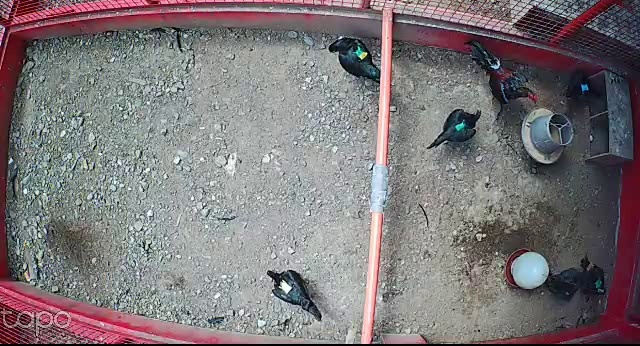Chicken: (264, 266, 326, 323), (323, 36, 381, 85), (425, 106, 484, 152), (561, 71, 600, 118), (575, 255, 612, 298), (545, 262, 581, 302)
Drinker: (505, 248, 550, 292)
Feeder: (521, 107, 573, 166)
Rooster: (462, 37, 539, 106)
Saddle_Color_Blue: (580, 83, 589, 90)
Saddle_Color_Yellow: (278, 280, 293, 295)
Saddle_Color_YellowGreen: (355, 45, 368, 59)
